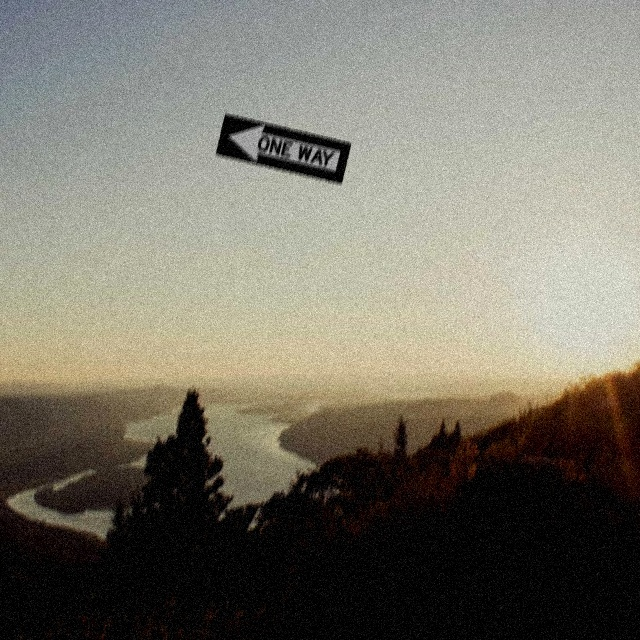ONE_WAY_ left: (215, 113, 351, 183)
